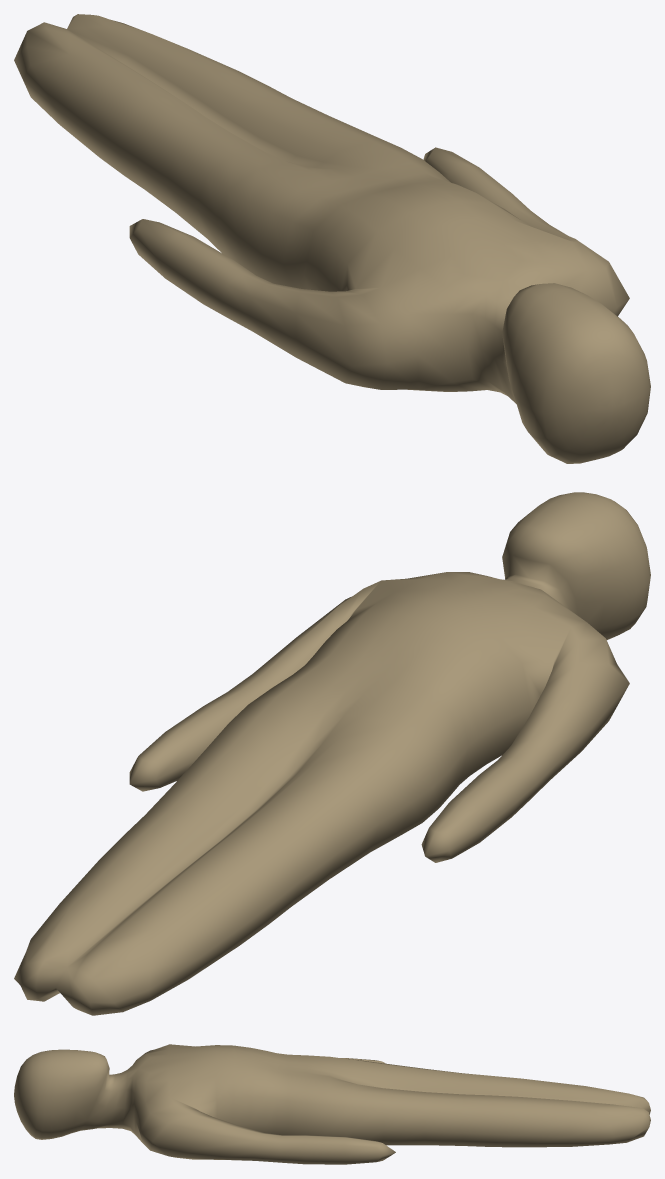
File: medicalMannequin.fbx
3 renders of one model, top to bottom at view 1: azimuth 30°, elevation 25°; view 2: azimuth 150°, elevation 25°; view 3: azimuth 270°, elevation 25°, orthographic. The views are drawn at different scales.
Visible parts, largest first — view 1: person; view 2: person; view 3: person.
Part boxes in pixels (x1,y1,x2,y2): person: [14, 14, 650, 463]; person: [14, 492, 650, 1015]; person: [14, 1044, 650, 1164].
Bounding box in the file's own units: 300 × 128 × 893.
